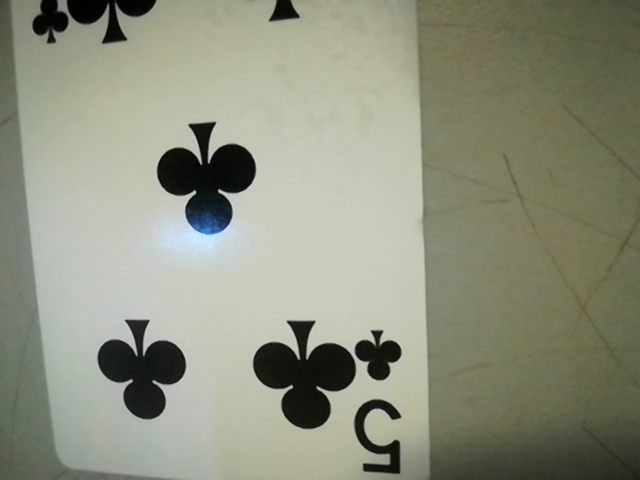mh 5: (353, 330, 408, 476)
